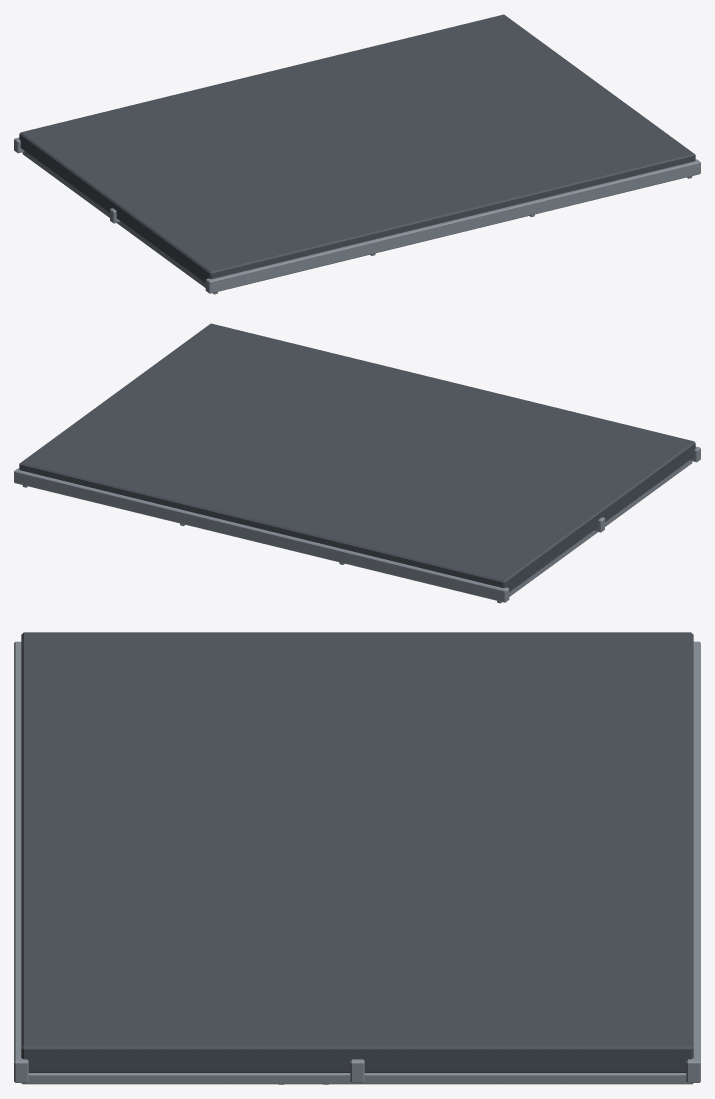
Rendered from NA_GalleryCeilingBay_L_G02_LOD1.fbx.
The picture shows the model from 3 angles, top to bottom: view 1: azimuth 30°, elevation 25°; view 2: azimuth 150°, elevation 25°; view 3: azimuth 270°, elevation 25°; orthographic projection. The views are drawn at different scales.
Parts seen in each view (by area): view 1: NA_GalleryCeilingBay_L_G02_LOD1; view 2: NA_GalleryCeilingBay_L_G02_LOD1; view 3: NA_GalleryCeilingBay_L_G02_LOD1.
Boxes of the visible parts, box(x1,y1,x2,y2) form: NA_GalleryCeilingBay_L_G02_LOD1: box(14, 14, 700, 294); NA_GalleryCeilingBay_L_G02_LOD1: box(14, 323, 700, 603); NA_GalleryCeilingBay_L_G02_LOD1: box(14, 632, 700, 1084).
Bounding box in the file's own units: 20.5 × 1.36 × 14.14.
